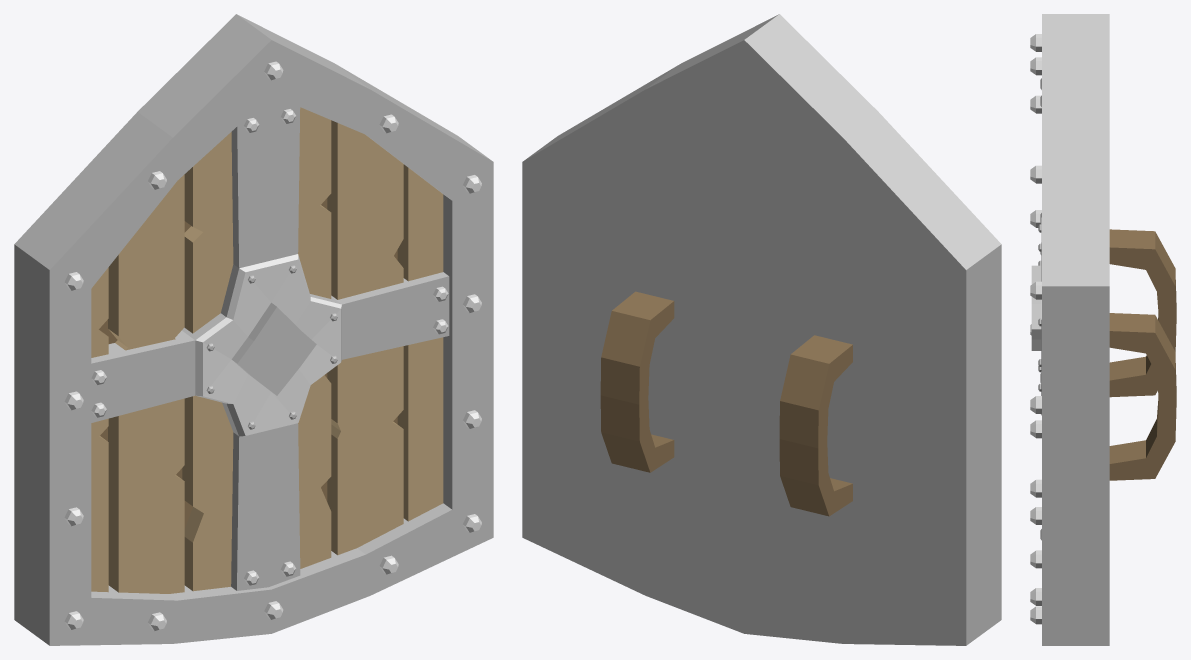
Rendered from q_heater.gltf.
3 views of the same model, side by side, from view 1: azimuth 30°, elevation 25°; view 2: azimuth 150°, elevation 25°; view 3: azimuth 270°, elevation 25° (orthographic). The views are drawn at different scales.
Visible parts, largest first — view 1: Shield_Heater; view 2: Shield_Heater; view 3: Shield_Heater.
Boxes of the visible parts, x1,y1,x2,y2 form: Shield_Heater: (14, 14, 493, 645); Shield_Heater: (522, 14, 1001, 645); Shield_Heater: (1030, 14, 1176, 645).
Size of the model in its own units: 0.4849 by 0.62 by 0.1444.
